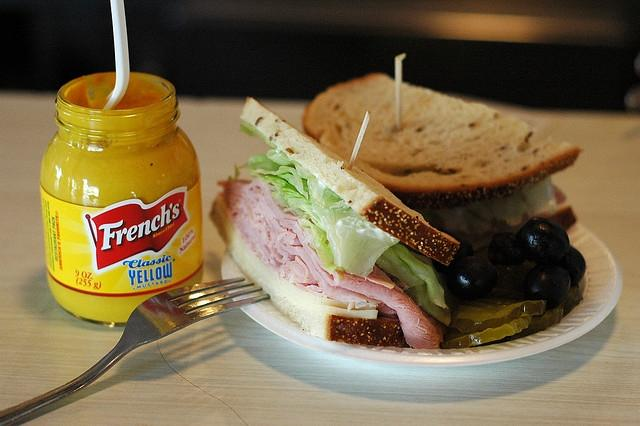lettuce: (414, 174, 556, 233), (312, 203, 401, 278), (248, 154, 310, 199), (292, 203, 326, 232)
